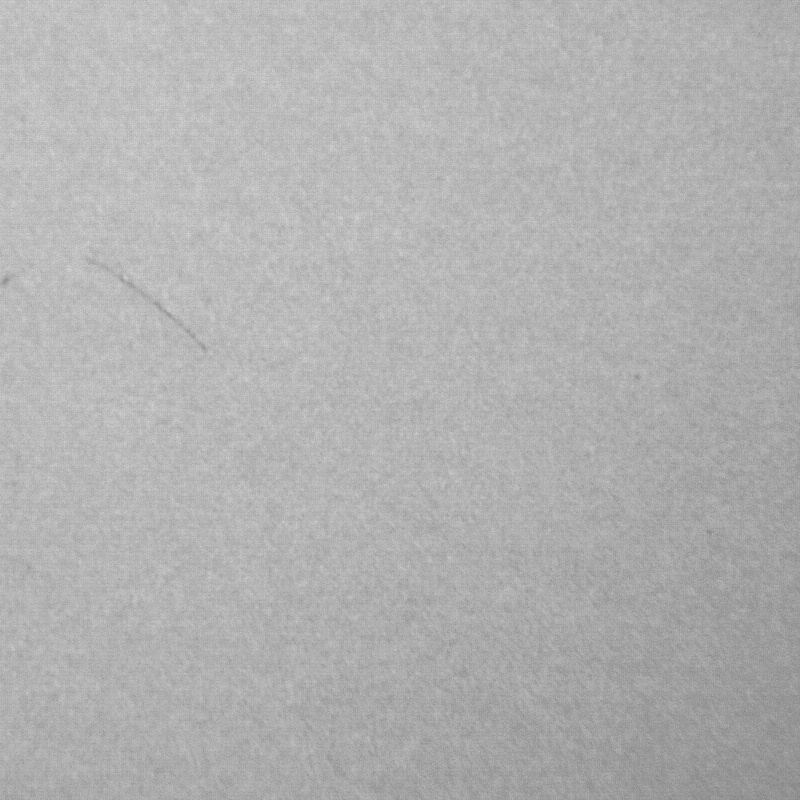defect: (87, 259, 209, 356), (1, 268, 23, 286)
